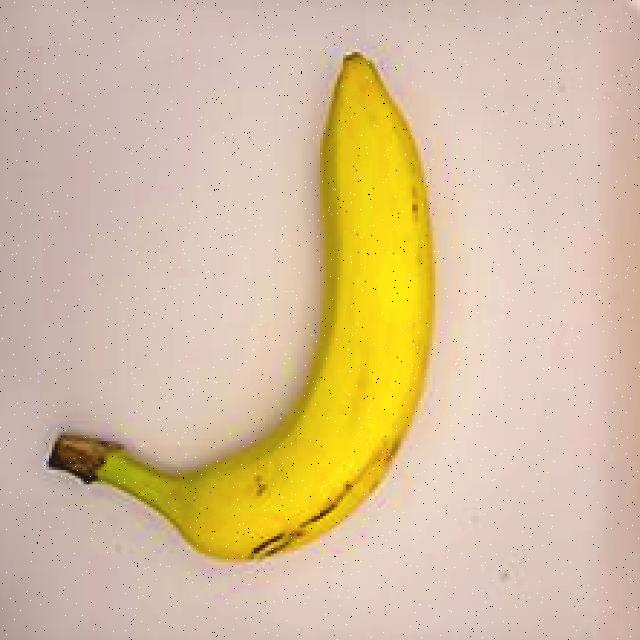Ripe: (13, 45, 447, 562)
